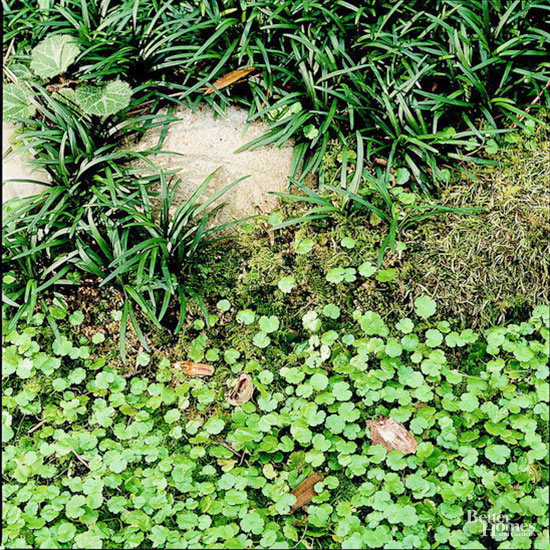clover: (8, 301, 550, 549)
